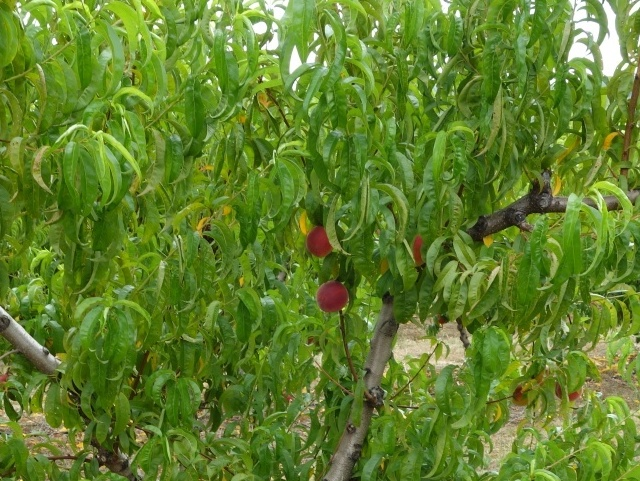peach: (311, 277, 352, 315), (301, 221, 339, 260), (552, 376, 582, 409)
